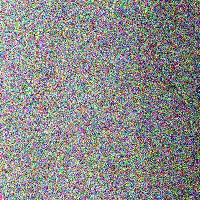pitted_surface: (78, 1, 199, 174), (6, 1, 76, 200)
